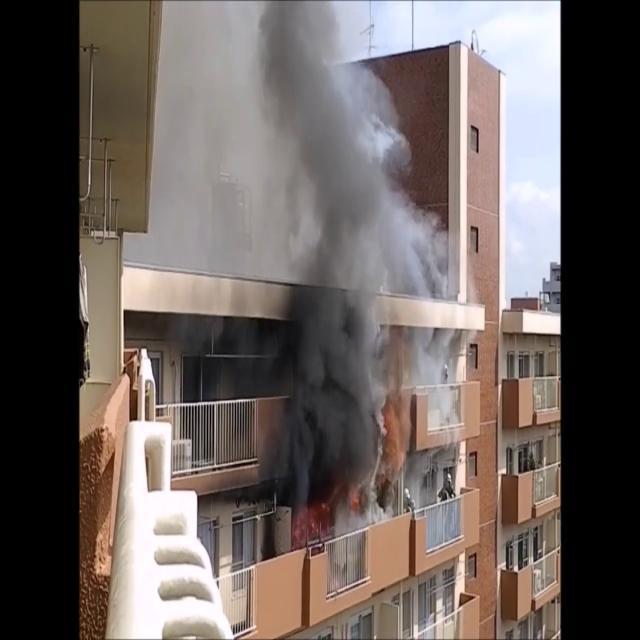Smoke: (152, 1, 396, 508)
